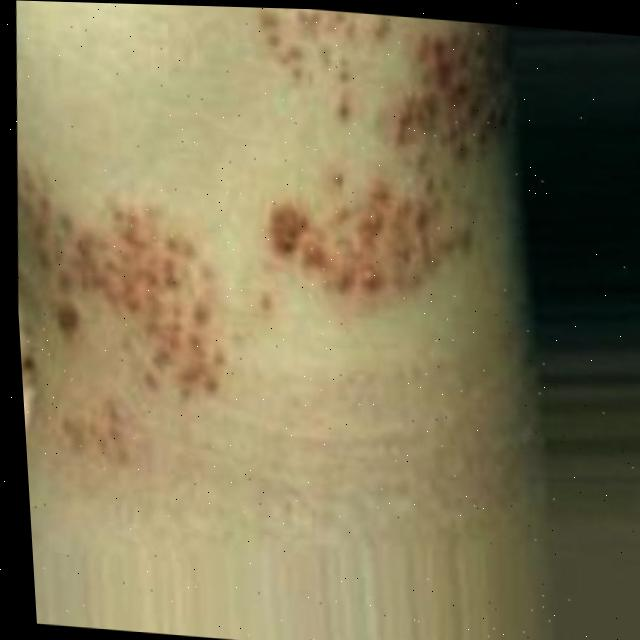Shingles: (244, 7, 530, 300), (10, 169, 245, 476)
